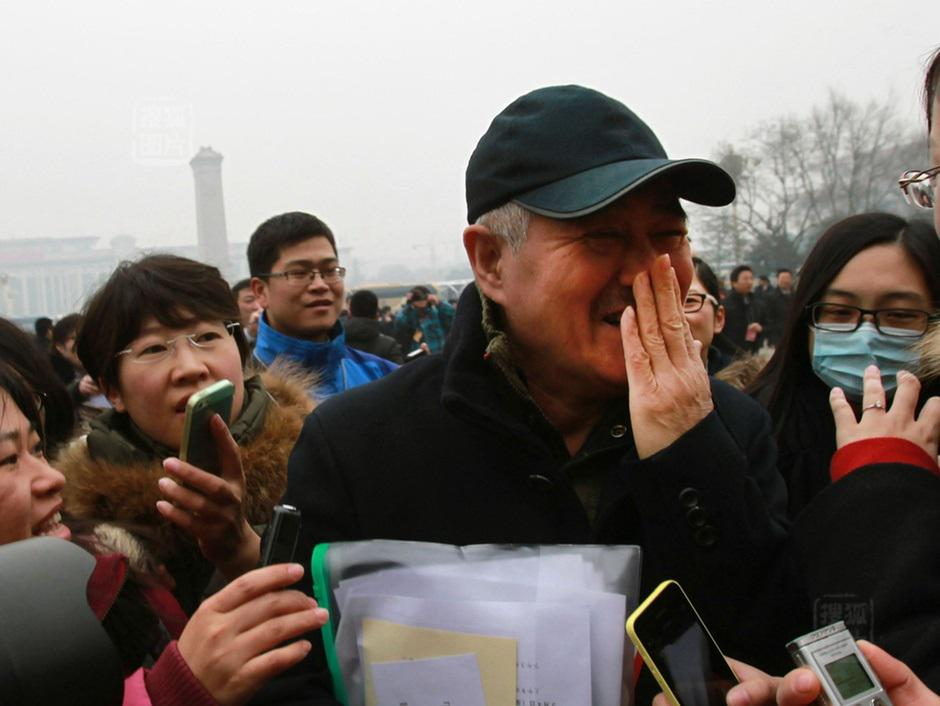NONE: (540, 191, 689, 376), (125, 309, 242, 442), (1, 405, 67, 547), (274, 251, 346, 339), (658, 275, 720, 349), (237, 289, 266, 323), (734, 270, 755, 292), (414, 289, 430, 308), (780, 272, 795, 287)
OK: (813, 276, 936, 399)
